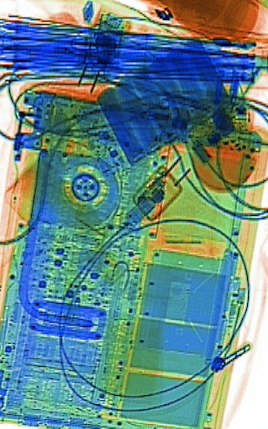powerbank: (68, 32, 236, 181)
